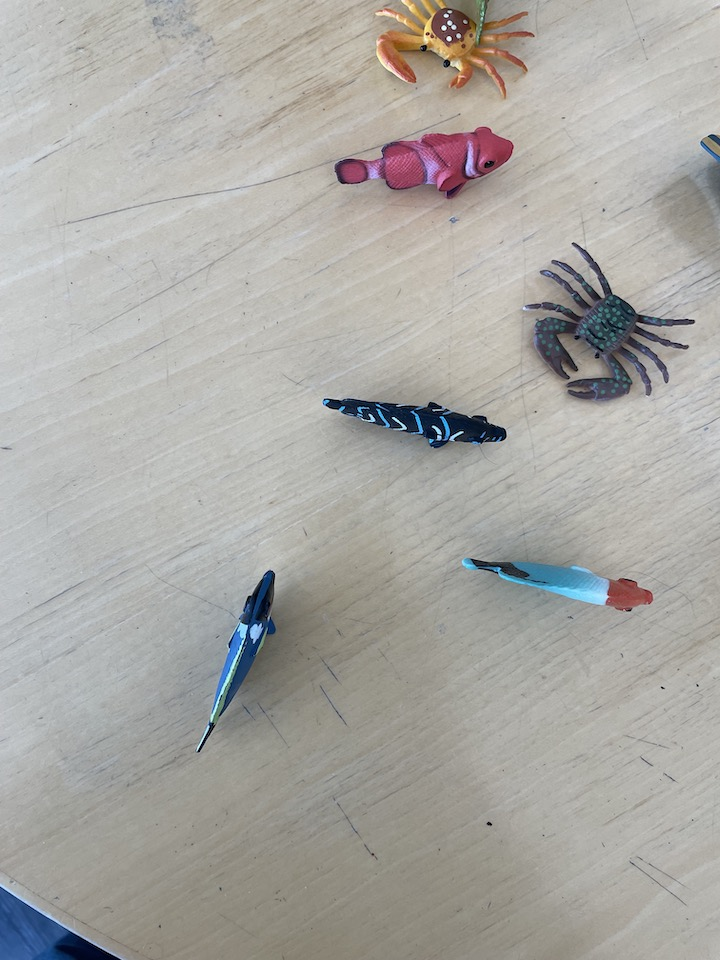crab: (514, 237, 698, 402), (364, 1, 537, 105)
fish: (195, 565, 287, 759), (329, 121, 516, 202), (459, 549, 660, 615), (320, 394, 512, 458)
